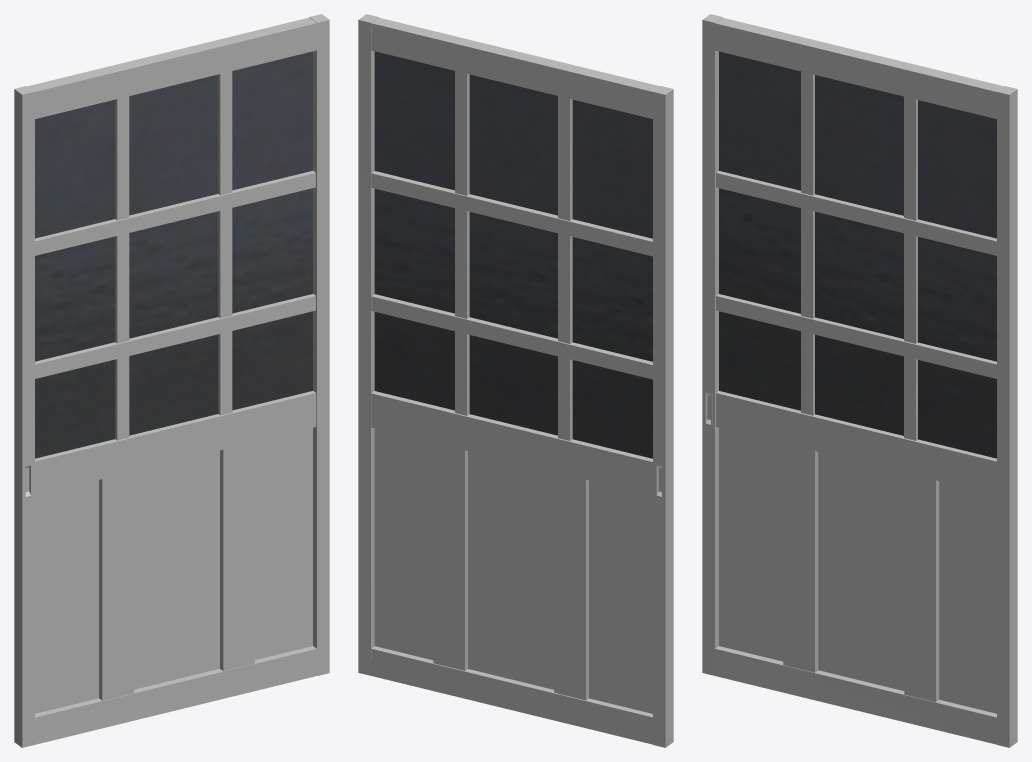
File: JpHouse_02door_ar.fbx
3 views of the same model, side by side, from view 1: azimuth 30°, elevation 25°; view 2: azimuth 150°, elevation 25°; view 3: azimuth 330°, elevation 25° (orthographic).
Visible parts, largest first — view 1: JpHouse_02door_ar; view 2: JpHouse_02door_ar; view 3: JpHouse_02door_ar.
Part boxes in pixels (<box>): JpHouse_02door_ar: <box>14,14,329,747</box>; JpHouse_02door_ar: <box>358,14,673,747</box>; JpHouse_02door_ar: <box>702,14,1017,747</box>.
Size of the model in its own units: 1.24 by 2.52 by 0.0575.
